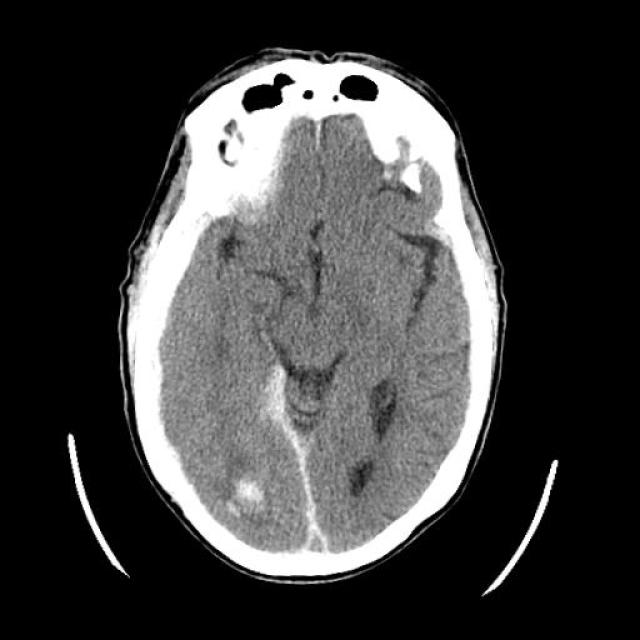Intraparenchymal: (191, 456, 285, 539)
Subdural: (256, 358, 356, 574)
